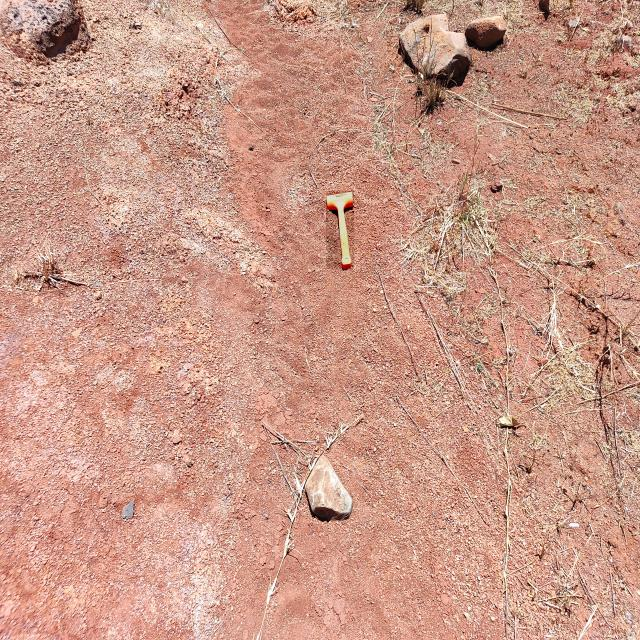Orange_hammer: (326, 191, 354, 269)
